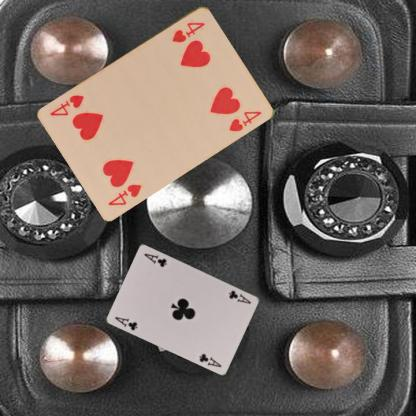4h: (105, 180, 143, 207), (169, 19, 207, 44)
Ac: (113, 314, 139, 332), (226, 288, 252, 305)
